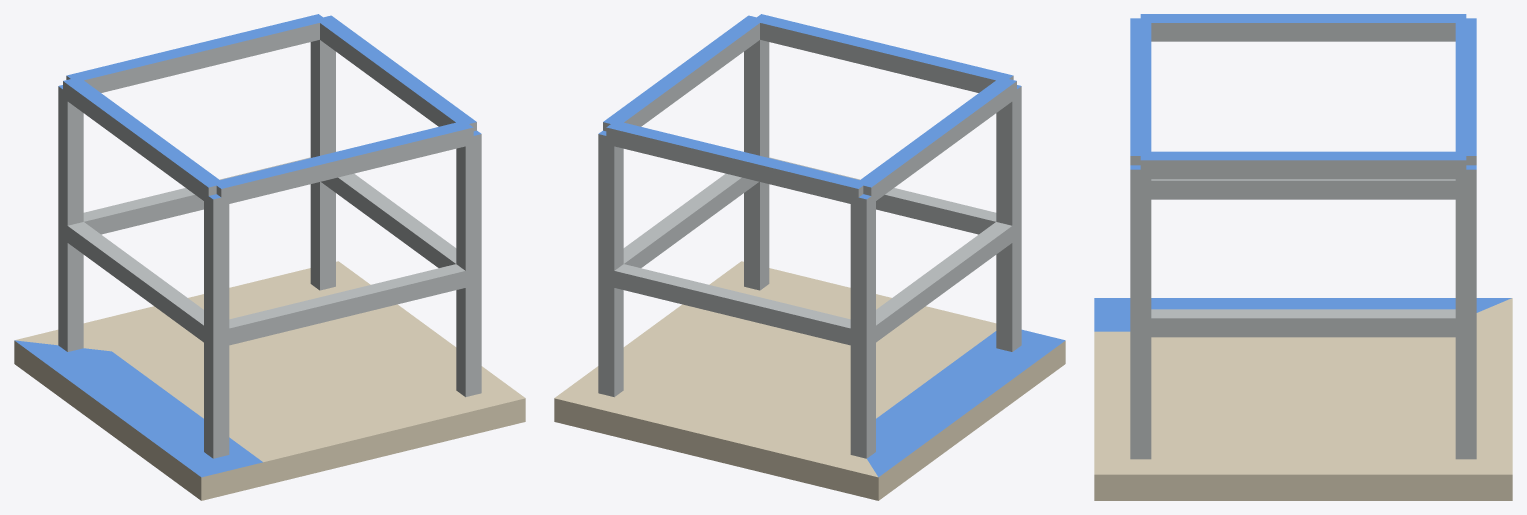
File: meridian_defence_tower_scaffolding.glb
3 renders of one model, left to right at view 1: azimuth 30°, elevation 25°; view 2: azimuth 150°, elevation 25°; view 3: azimuth 270°, elevation 25°, orthographic. The views are drawn at different scales.
Visible parts, largest first — view 1: hull; view 2: hull; view 3: hull.
Part boxes in pixels (<box>): hull: <box>14,14,525,500</box>; hull: <box>554,14,1065,500</box>; hull: <box>1094,14,1512,500</box>.
Bounding box in the file's own units: 3.6 × 3.09 × 3.6.
